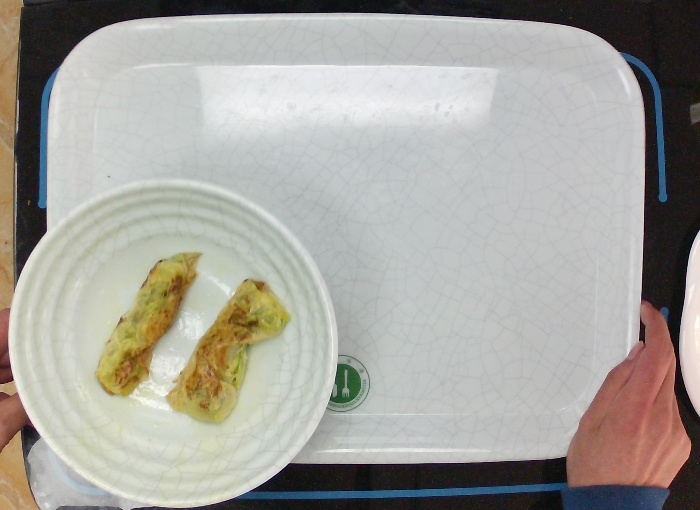JYsf-Da_Tang_Wan: (7, 177, 340, 510)
